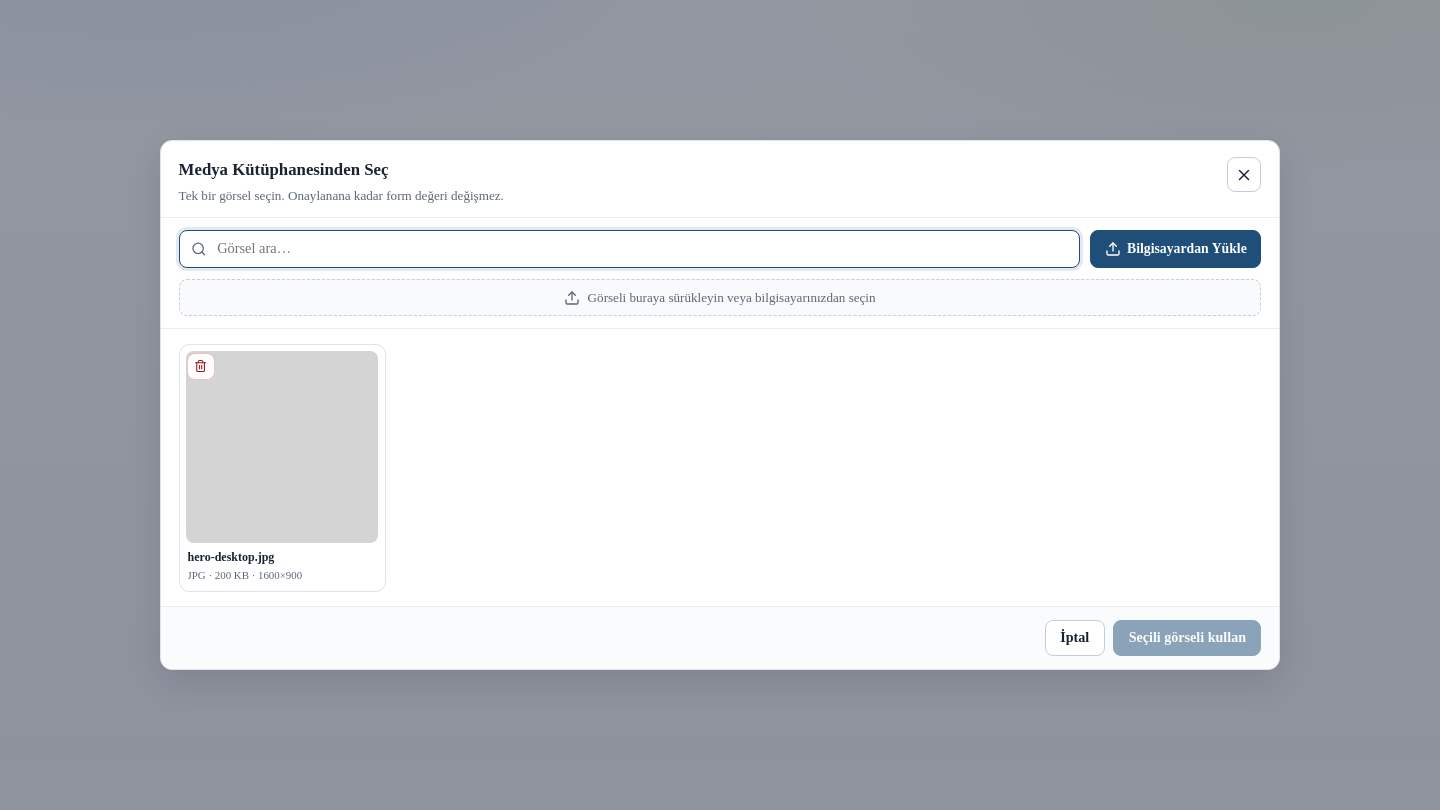
ProductCategoryMediaPicker › does not select card when delete button is pressed and requires confirmation
Click the button named "hero-desktop.jpg sil". click: x=201, y=366
box: [187,352,215,380]
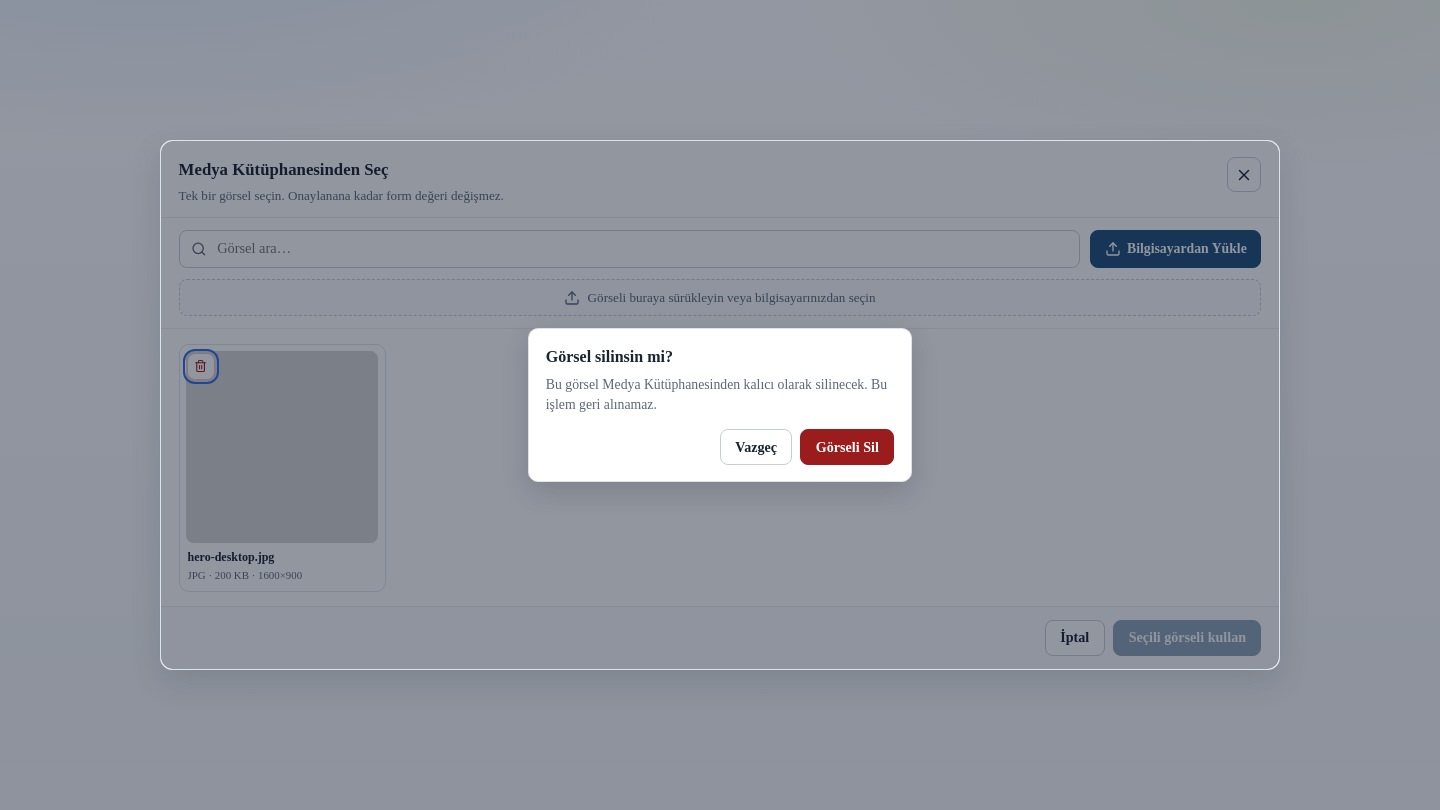
Expected: the dialog "Görsel silinsin mi?" is shown, [528,328,912,482]
